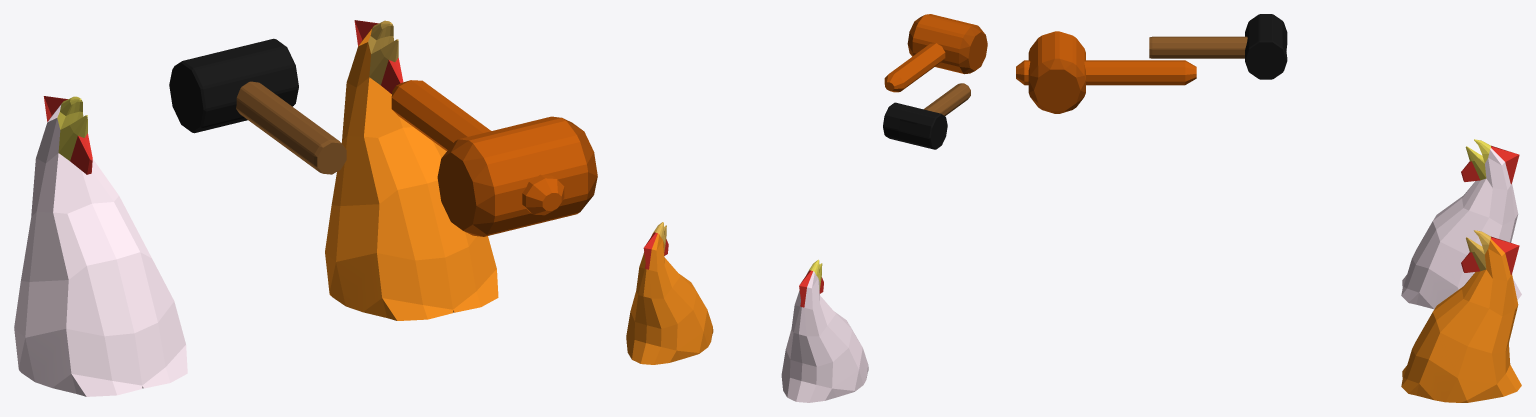
Rendered from Whack-A-Chicken_Assets_v1.fbx.
The picture shows the model from 3 angles, left to right: view 1: azimuth 30°, elevation 25°; view 2: azimuth 150°, elevation 25°; view 3: azimuth 270°, elevation 25°; orthographic projection. The views are drawn at different scales.
Parts seen in each view (by area): view 1: Whack_Chicken_Head_1, Whack_Chicken_Head_Gold_1, Minigame_Sledge_1, Minigame_Hammer_1; view 2: Whack_Chicken_Head_Gold_1, Whack_Chicken_Head_1, Minigame_Sledge_1, Minigame_Hammer_1; view 3: Whack_Chicken_Head_Gold_1, Whack_Chicken_Head_1, Minigame_Sledge_1, Minigame_Hammer_1.
Boxes of the visible parts, x1=… form: Whack_Chicken_Head_1: x1=14, y1=96, x2=187, y2=396; Whack_Chicken_Head_Gold_1: x1=325, y1=20, x2=498, y2=320; Minigame_Sledge_1: x1=391, y1=80, x2=597, y2=236; Minigame_Hammer_1: x1=169, y1=38, x2=346, y2=174; Whack_Chicken_Head_Gold_1: x1=626, y1=222, x2=713, y2=364; Whack_Chicken_Head_1: x1=781, y1=259, x2=868, y2=402; Minigame_Sledge_1: x1=884, y1=14, x2=987, y2=92; Minigame_Hammer_1: x1=883, y1=83, x2=970, y2=149; Whack_Chicken_Head_Gold_1: x1=1401, y1=230, x2=1521, y2=402; Whack_Chicken_Head_1: x1=1401, y1=139, x2=1521, y2=309; Minigame_Sledge_1: x1=1016, y1=31, x2=1196, y2=113; Minigame_Hammer_1: x1=1149, y1=14, x2=1287, y2=79.
Size of the model in its own units: 114 by 109 by 183.
